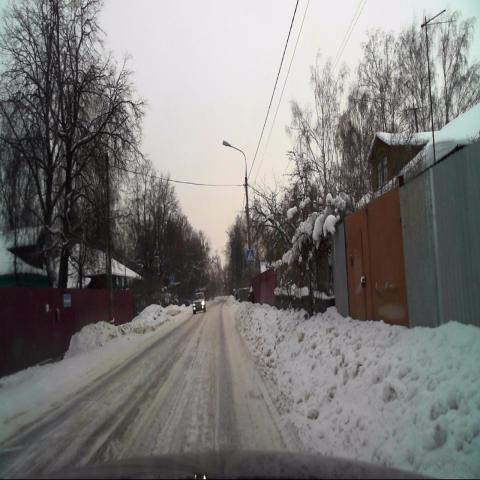5_19_1: (246, 249, 254, 263)
